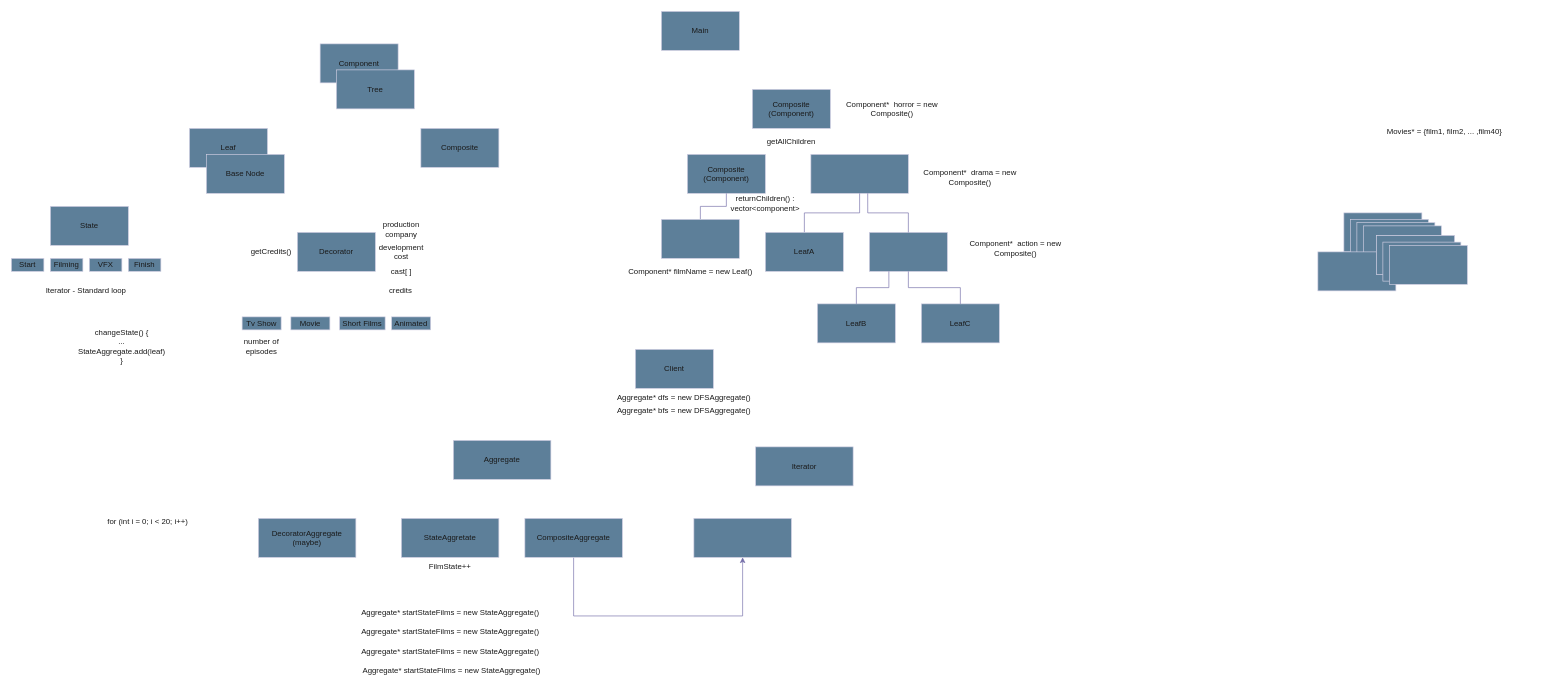
Image size: 1544x699. Some labels were removed from this diagram. Each missing label, with the centre of its shape:
"Composite - {LeafA - Composite C}" goes at pixel 859 173.
"CompositeC {LeafB, LeafC}" goes at pixel 908 251.
"DFSIterator" goes at pixel 742 537.
"Leaf (Component)" goes at pixel 700 238.
